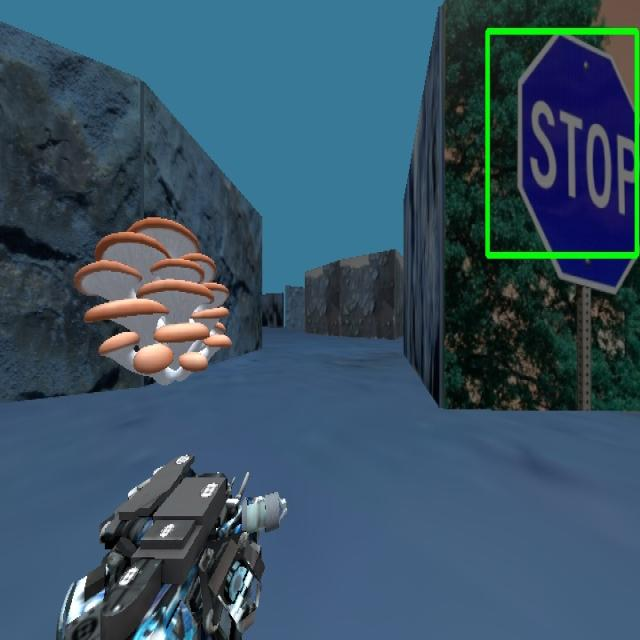Mushroom: (73, 215, 232, 385)
Stop_Sign: (484, 23, 638, 293)
